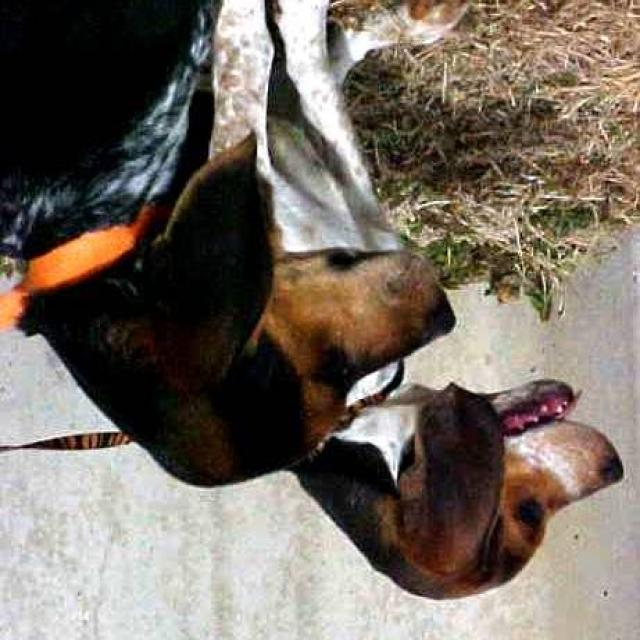dog: (1, 0, 488, 505)
